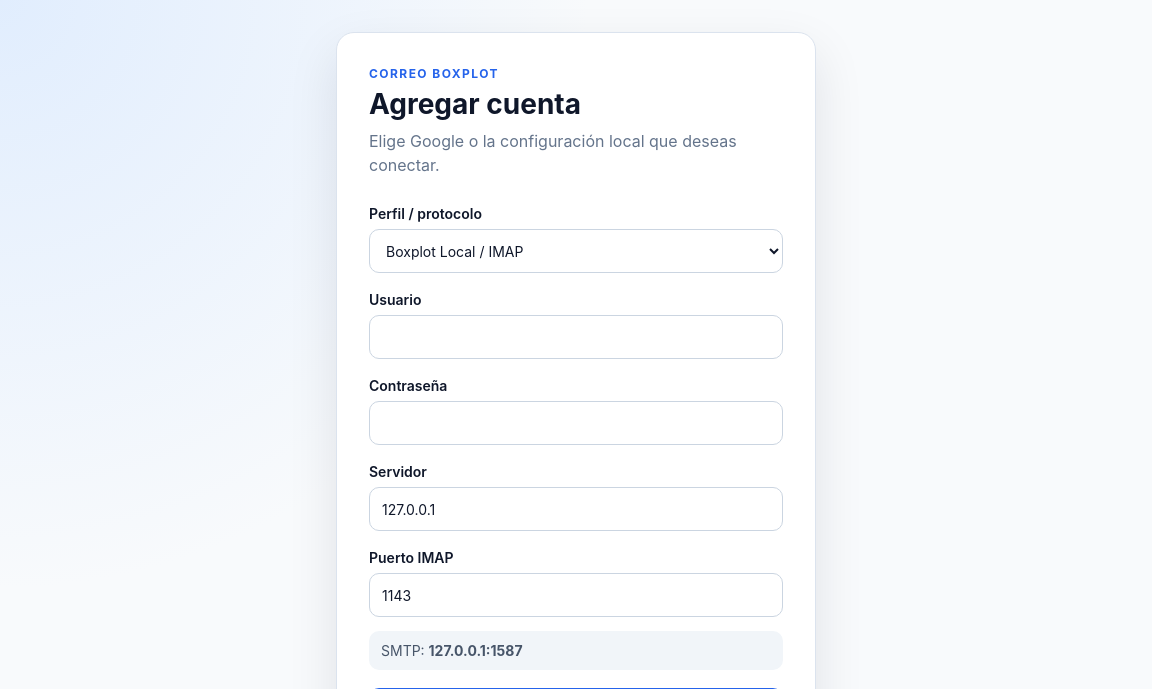
Scenario: AccountSetup presentation (A2-01) › AS-C05 updates only the informational SMTP host
The image size is (1152, 689).
Replace the text in the field with id "account-host" with "mail.boxplot.test" at (576, 509), box [369,487,783,531]
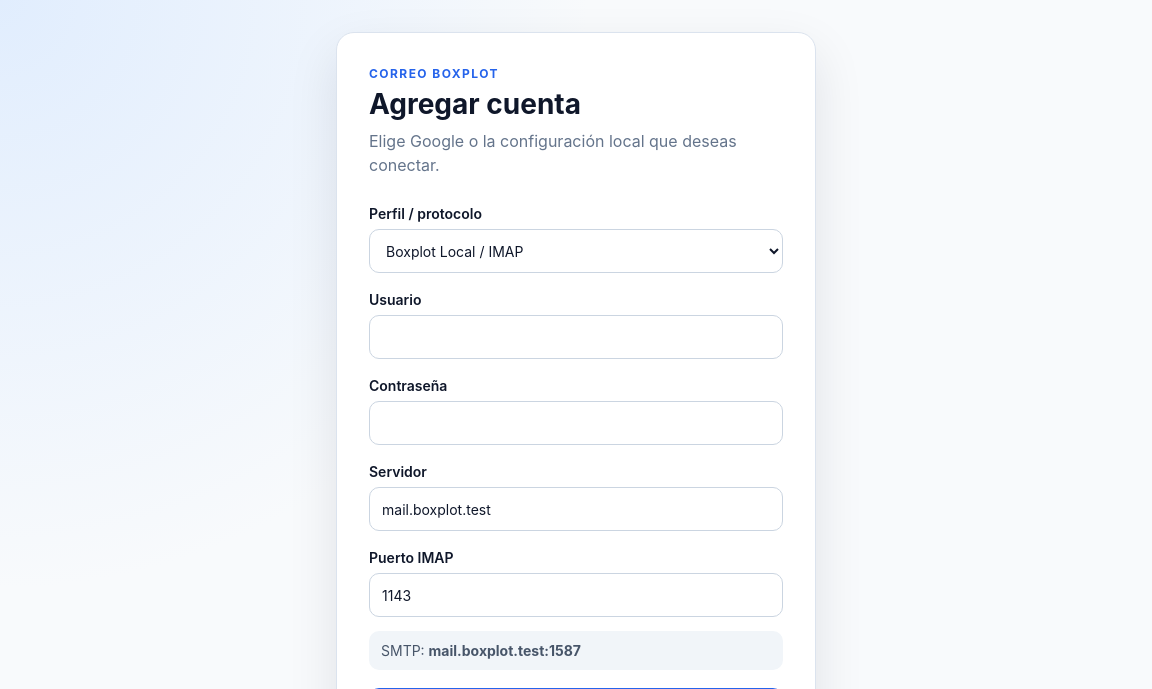
Check: the text "SMTP: mail.boxplot.test:1587" is shown, box [369,631,783,670]
